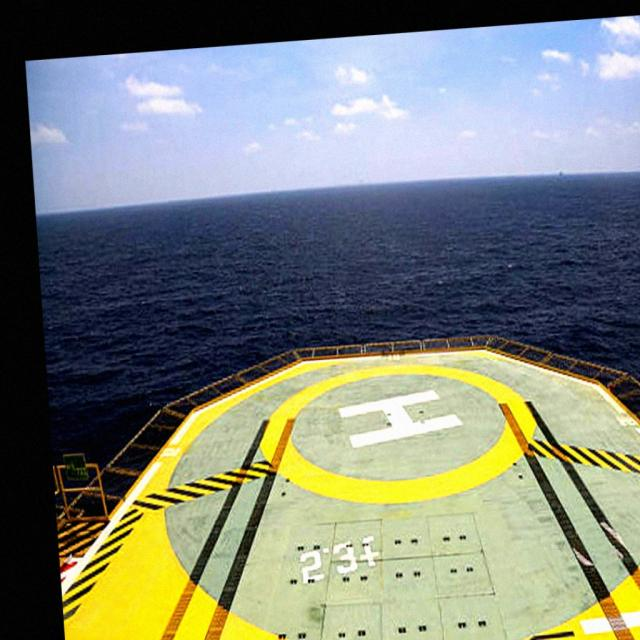helipad: (257, 359, 538, 508)
